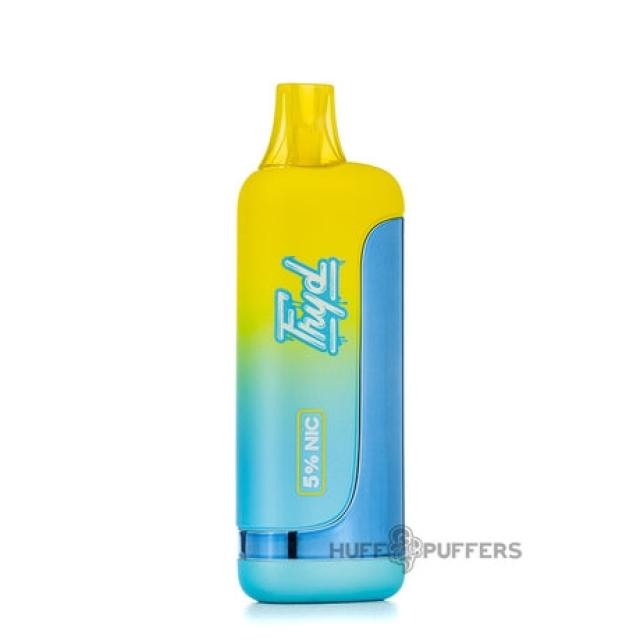Hazard: (234, 81, 406, 604)
